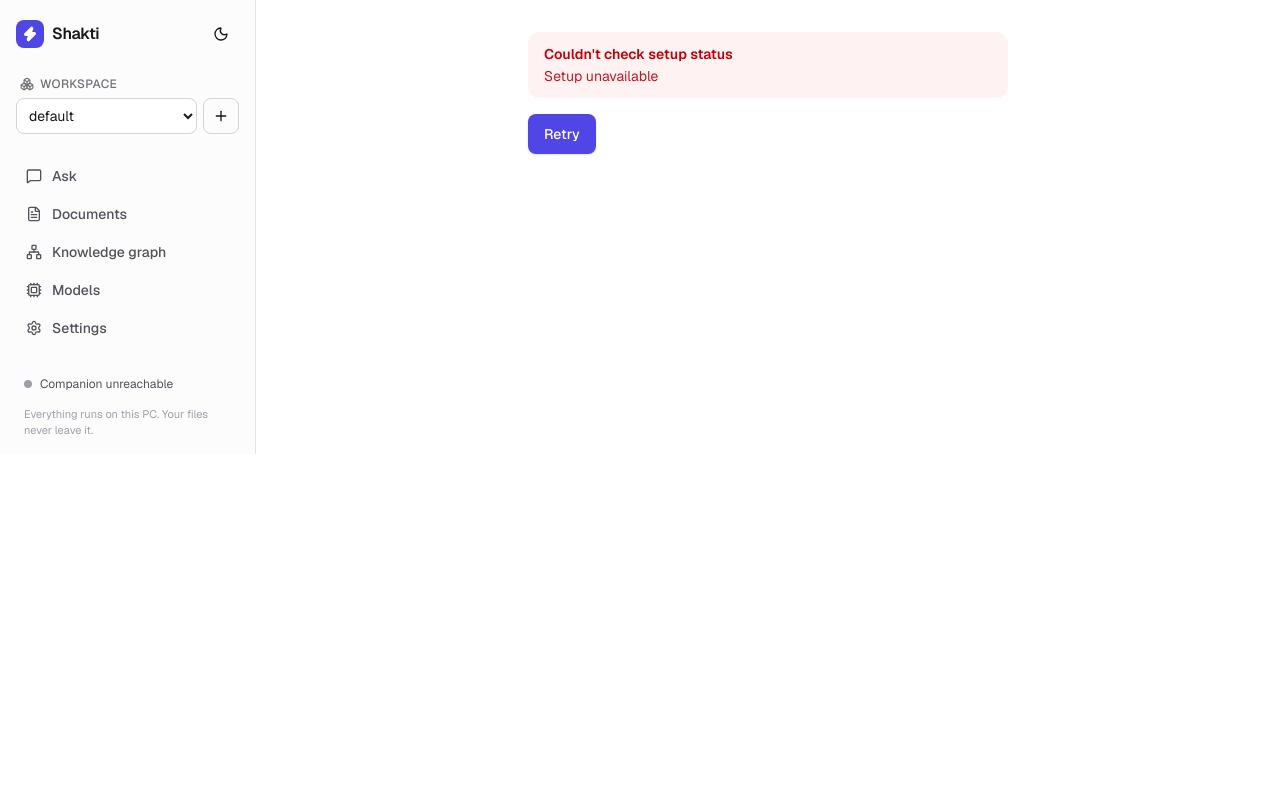
Test case: shows setup-status errors at home and recovers when Retry succeeds
The image size is (1280, 800).
Click the button "Retry".
click(562, 134)  # box [528,114,596,154]
Wait 1 ms
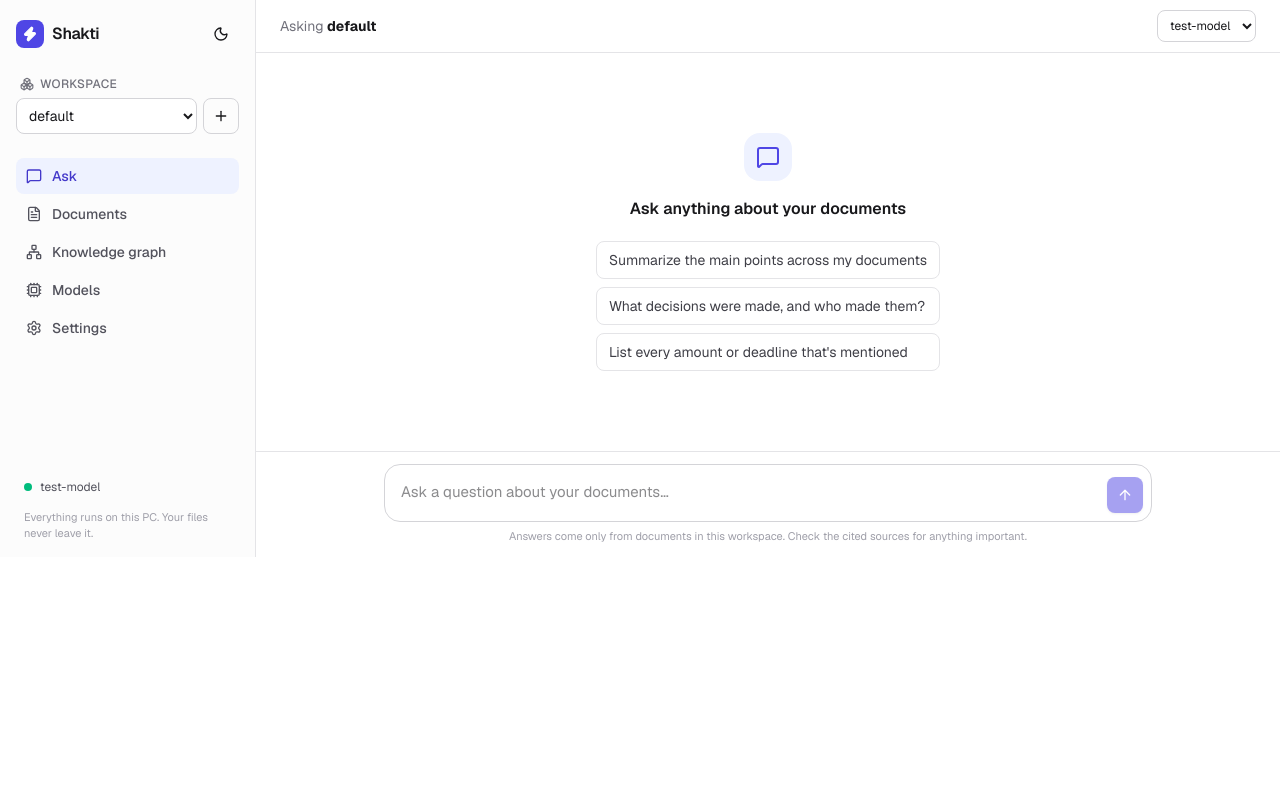
Expected: the text box named "Your question" is shown, [393,473,1099,513]
